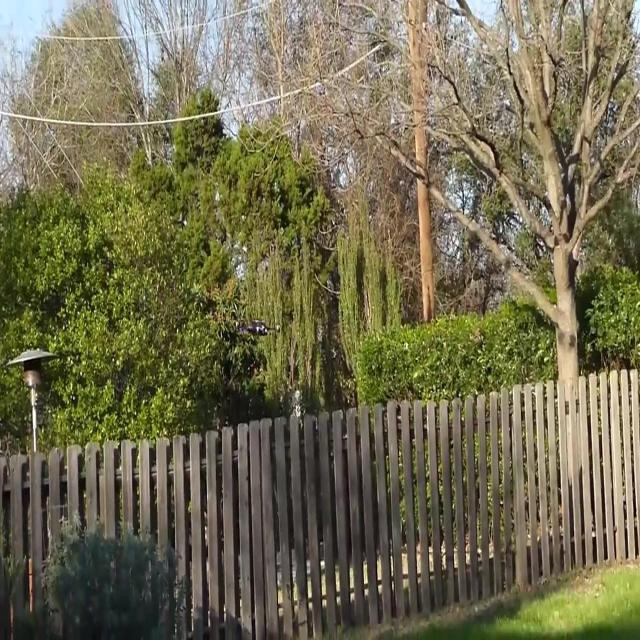drone: (239, 314, 283, 344)
